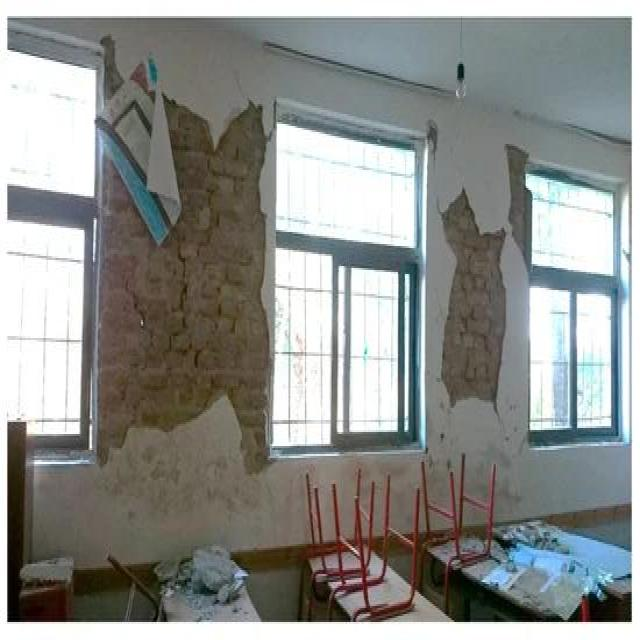damage: (90, 54, 290, 507), (427, 168, 516, 437), (126, 518, 256, 622), (485, 478, 579, 578), (492, 126, 544, 291)
